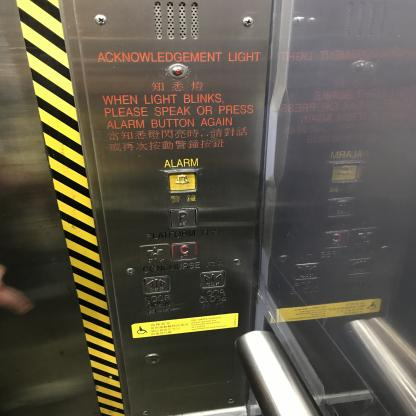C: (171, 241, 198, 262)
P: (168, 206, 198, 229)
alarm: (164, 169, 198, 194)
close: (199, 270, 226, 289)
indicator: (168, 62, 188, 79)
open: (143, 274, 170, 296)
s: (139, 243, 171, 266)
